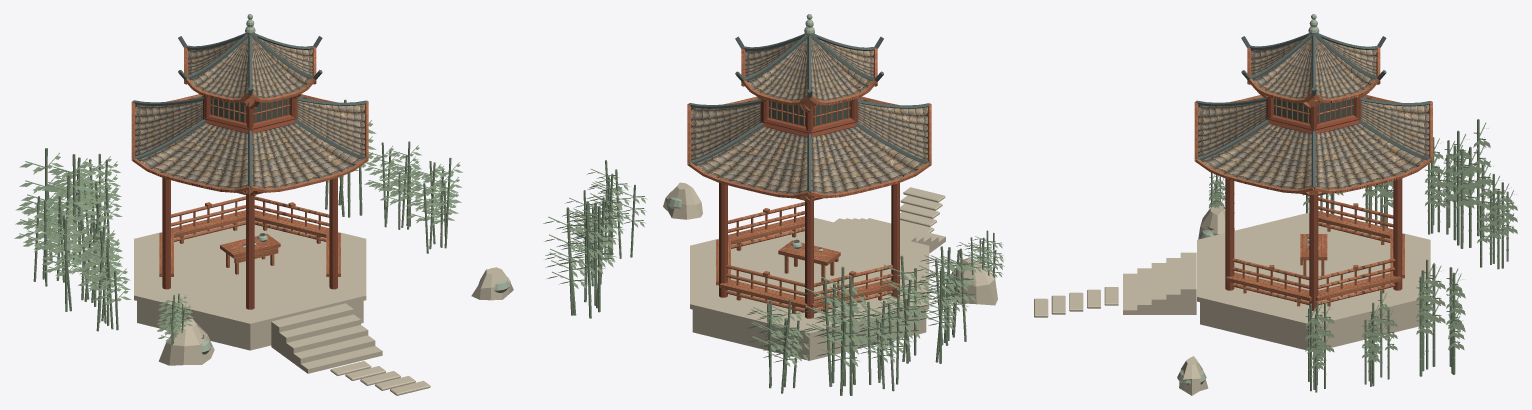
3 renders of one model, left to right at view 1: azimuth 30°, elevation 25°; view 2: azimuth 150°, elevation 25°; view 3: azimuth 270°, elevation 25°, orthographic. The views are drawn at different scales.
Visible parts, largest first — view 1: yiaiting__warm_limestone, yiaiting__painted_roof, yiaiting__jade_foliage, yiaiting__painted_cedar, yiaiting__red_lacquer, yiaiting__tile_ridges, yiaiting__deep_recess, yiaiting__leaf_sage, yiaiting__chibi_celadon; view 2: yiaiting__warm_limestone, yiaiting__painted_roof, yiaiting__jade_foliage, yiaiting__painted_cedar, yiaiting__red_lacquer, yiaiting__tile_ridges, yiaiting__leaf_sage, yiaiting__deep_recess; view 3: yiaiting__warm_limestone, yiaiting__painted_roof, yiaiting__jade_foliage, yiaiting__painted_cedar, yiaiting__red_lacquer, yiaiting__tile_ridges, yiaiting__deep_recess, yiaiting__leaf_sage, yiaiting__chibi_celadon.
Boxes of the visible parts, box(x1,y1,x2,y2) form: yiaiting__warm_limestone: box(134, 220, 513, 395); yiaiting__painted_roof: box(135, 37, 365, 188); yiaiting__jade_foliage: box(14, 99, 462, 345); yiaiting__painted_cedar: box(131, 47, 368, 276); yiaiting__red_lacquer: box(162, 96, 337, 309); yiaiting__tile_ridges: box(132, 19, 367, 187); yiaiting__deep_recess: box(210, 98, 289, 123); yiaiting__leaf_sage: box(34, 155, 450, 342); yiaiting__chibi_celadon: box(201, 14, 510, 354); yiaiting__warm_limestone: box(663, 182, 997, 360); yiaiting__painted_roof: box(691, 38, 927, 193); yiaiting__jade_foliage: box(543, 160, 1004, 395); yiaiting__painted_cedar: box(687, 47, 931, 312); yiaiting__red_lacquer: box(719, 98, 899, 318); yiaiting__tile_ridges: box(688, 33, 930, 192); yiaiting__leaf_sage: box(567, 175, 995, 384); yiaiting__deep_recess: box(769, 100, 850, 126); yiaiting__warm_limestone: box(1034, 205, 1430, 395); yiaiting__painted_roof: box(1198, 37, 1429, 189); yiaiting__jade_foliage: box(1208, 119, 1517, 392); yiaiting__painted_cedar: box(1194, 46, 1432, 306); yiaiting__red_lacquer: box(1225, 96, 1402, 310); yiaiting__tile_ridges: box(1195, 19, 1431, 188); yiaiting__deep_recess: box(1274, 98, 1353, 123); yiaiting__leaf_sage: box(1210, 138, 1508, 382); yiaiting__chibi_celadon: box(1177, 14, 1319, 385).
Size of the model in its own units: 14.1 by 9.75 by 15.08.
Materials: 10 (2 with a texture image).
